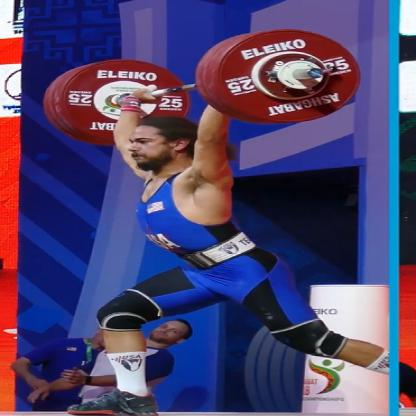Barbell: (184, 24, 376, 127)
